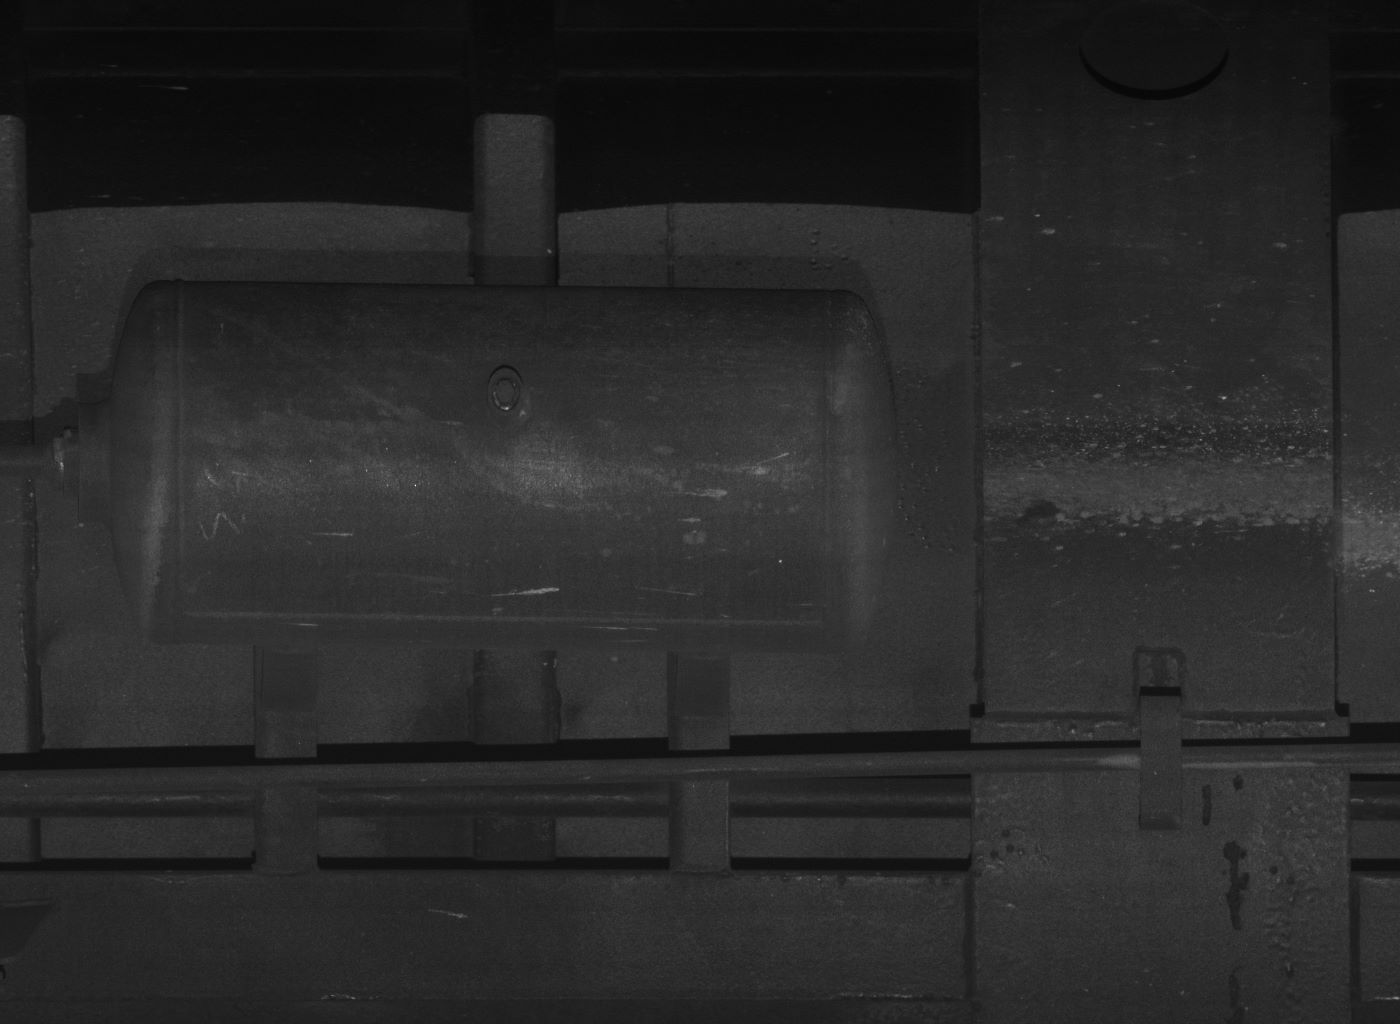normal: (1136, 692, 1185, 829)
